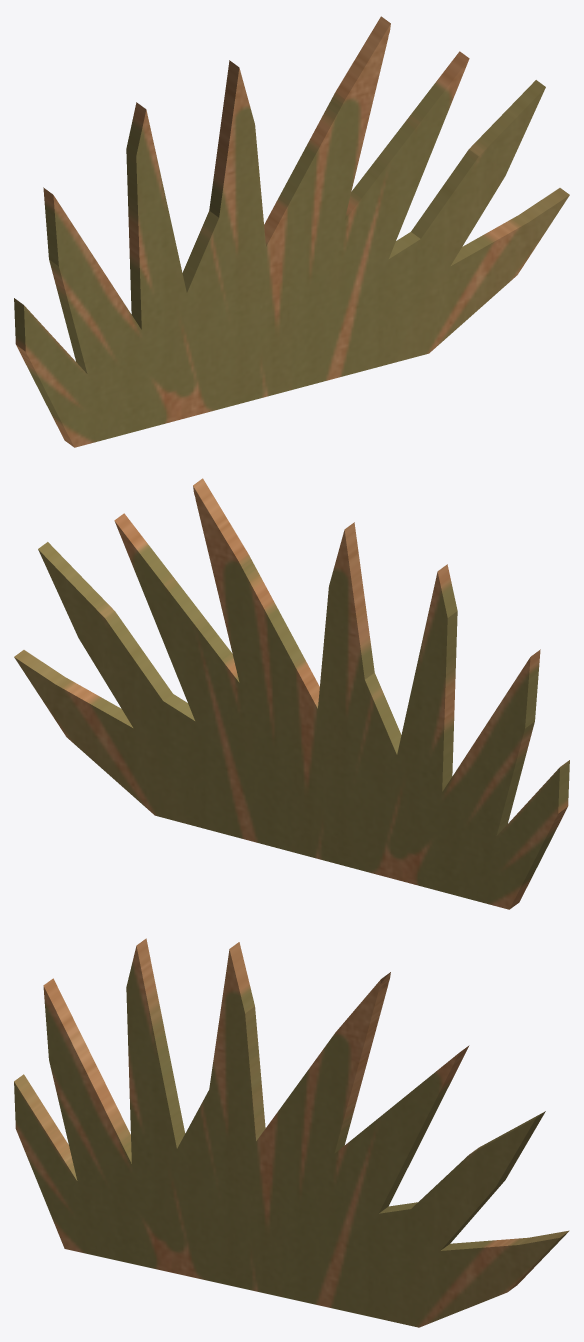
The model's file is bush_5.FBX.
The picture shows the model from 3 angles, top to bottom: view 1: azimuth 30°, elevation 25°; view 2: azimuth 150°, elevation 25°; view 3: azimuth 330°, elevation 25°; orthographic projection.
Parts seen in each view (by area): view 1: bush_5; view 2: bush_5; view 3: bush_5.
Part boxes in pixels (bbox=[...]): bush_5: bbox=[14, 16, 569, 447]; bush_5: bbox=[14, 478, 569, 909]; bush_5: bbox=[14, 938, 569, 1327].
Bounding box in the file's own units: 222 × 136 × 7.
1 material, 1 textured.
